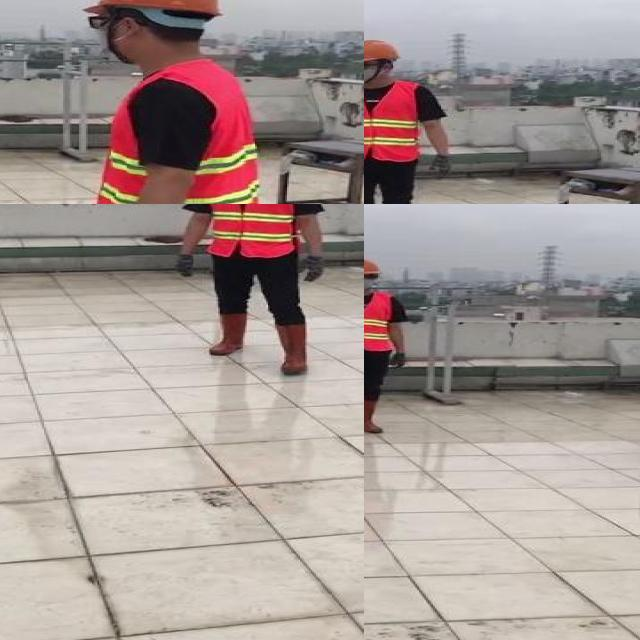boots: (271, 323, 309, 376), (211, 313, 247, 354), (364, 397, 387, 434)
face_mask: (364, 60, 376, 83), (364, 271, 379, 289)
glasses: (364, 272, 380, 281), (364, 60, 374, 71)
hand_glove: (296, 257, 328, 283), (176, 251, 198, 277), (428, 154, 450, 177), (387, 352, 406, 370)
head_helmet: (79, 0, 223, 16), (364, 37, 401, 63), (364, 256, 381, 275)
person: (50, 0, 283, 204), (167, 204, 336, 381), (364, 36, 457, 204), (364, 259, 418, 438)
vest: (93, 61, 260, 204), (204, 204, 298, 256), (364, 82, 418, 160), (364, 291, 395, 351)
